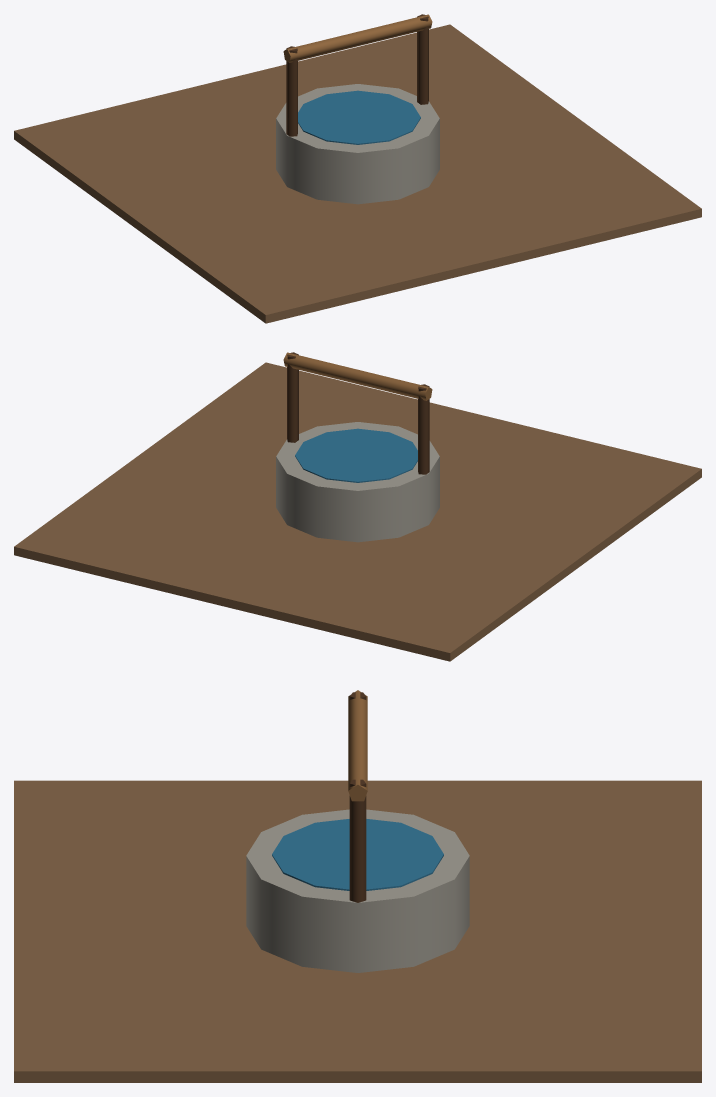
The model's file is bld_special_water_works_a01.glb.
3 views of the same model, one above another, from view 1: azimuth 30°, elevation 25°; view 2: azimuth 150°, elevation 25°; view 3: azimuth 270°, elevation 25° (orthographic). The views are drawn at different scales.
Parts seen in each view (by area): view 1: body; view 2: body; view 3: body.
Part boxes in pixels (box(x1,y1,x2,y2)): body: box(14, 14, 701, 323); body: box(14, 352, 701, 661); body: box(14, 690, 701, 1082).
Size of what is drawn, in the model's own units: 8 by 2.57 by 8.
